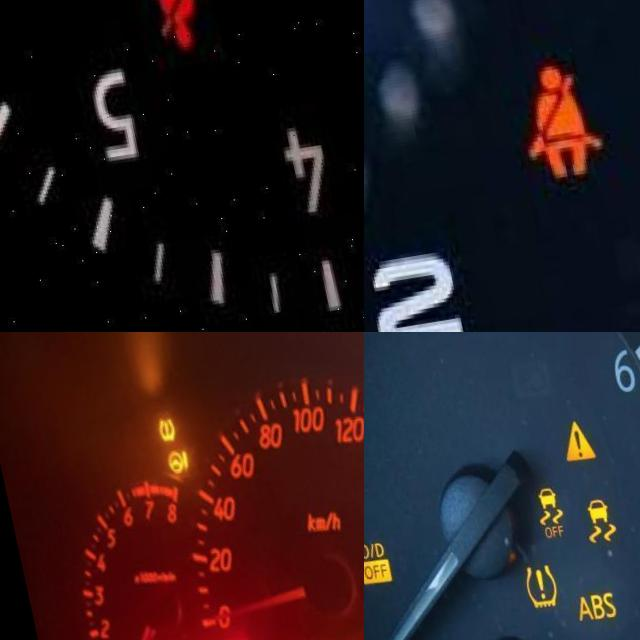Electronic Power Steering: (157, 451, 190, 485)
Seat Belt: (502, 73, 591, 191), (131, 0, 199, 64)
